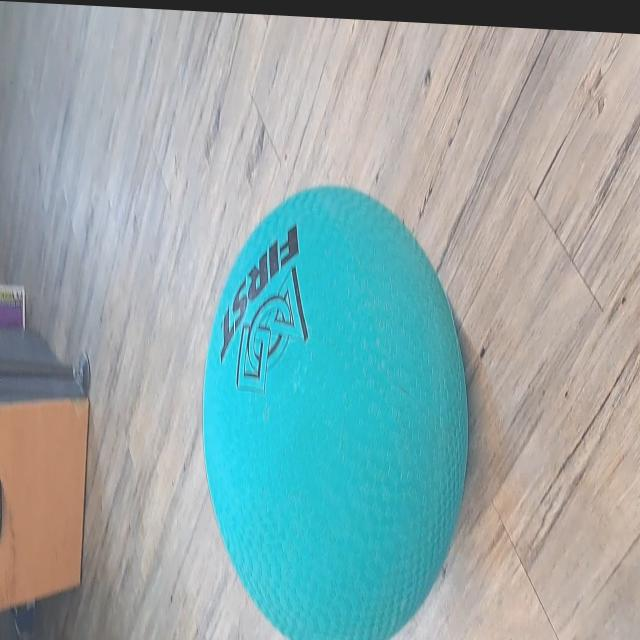ALGAE: (200, 176, 470, 640)
